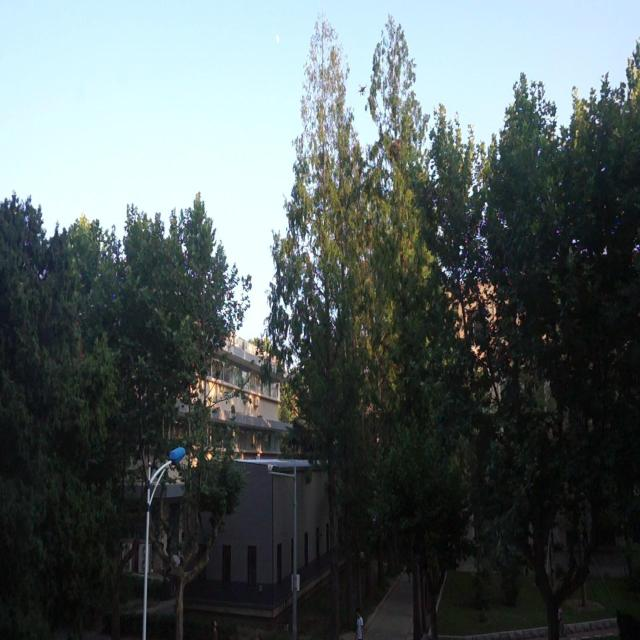drone: (357, 80, 368, 98)
